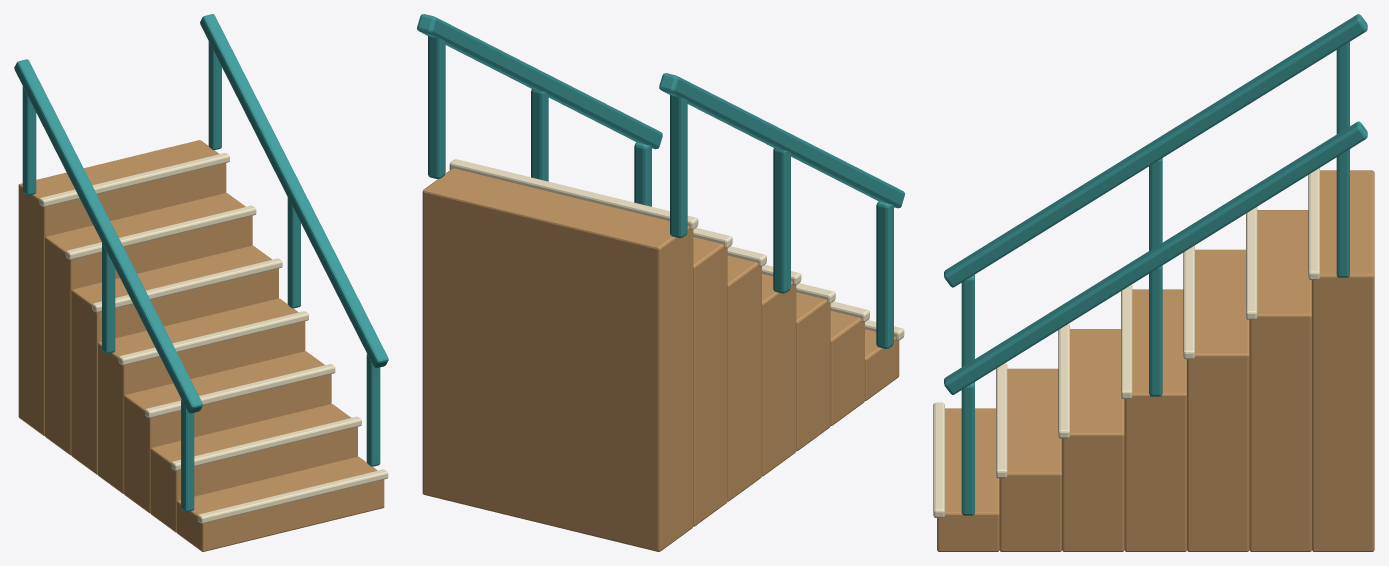
The model's file is S013_straight_stair.glb.
3 views of the same model, side by side, from view 1: azimuth 30°, elevation 25°; view 2: azimuth 150°, elevation 25°; view 3: azimuth 270°, elevation 25° (orthographic). The views are drawn at different scales.
Visible parts, largest first — view 1: stair_tread.006, stair_tread.005, stair_tread.004, stair_tread.003, stair_tread.002, stair_tread.001, stair_tread, sloping_handrail, sloping_handrail.001, tread_nosing, tread_nosing.001, tread_nosing.003 (+10 smaller); view 2: stair_tread.006, stair_tread.005, stair_tread.004, stair_tread.003, sloping_handrail.001, sloping_handrail, stair_tread.002, stair_tread.001, handrail_post, handrail_post.001, handrail_post.002, handrail_post.005 (+4 smaller); view 3: stair_tread.006, stair_tread.005, stair_tread.004, stair_tread.003, stair_tread.002, stair_tread.001, sloping_handrail.001, sloping_handrail, stair_tread, handrail_post.003, handrail_post.004, handrail_post.005 (+10 smaller).
Part boxes in pixels (<box>): stair_tread.006: <box>18,140,226,435</box>; stair_tread.005: <box>45,193,252,455</box>; stair_tread.004: <box>71,245,278,474</box>; stair_tread.003: <box>97,298,305,493</box>; stair_tread.002: <box>124,351,331,513</box>; stair_tread.001: <box>150,404,357,532</box>; stair_tread: <box>176,456,384,551</box>; sloping_handrail: <box>14,59,202,413</box>; sloping_handrail.001: <box>200,14,388,368</box>; tread_nosing: <box>197,469,388,523</box>; tread_nosing.001: <box>171,416,361,470</box>; tread_nosing.003: <box>118,311,308,365</box>; stair_tread.006: <box>422,168,693,551</box>; stair_tread.005: <box>693,237,727,526</box>; stair_tread.004: <box>727,255,761,501</box>; stair_tread.003: <box>762,274,796,476</box>; sloping_handrail.001: <box>417,14,662,149</box>; sloping_handrail: <box>659,73,904,208</box>; stair_tread.002: <box>796,292,830,451</box>; stair_tread.001: <box>830,311,864,425</box>; handrail_post: <box>876,201,893,348</box>; handrail_post.001: <box>773,148,790,293</box>; handrail_post.002: <box>670,95,687,238</box>; handrail_post.005: <box>428,36,445,178</box>; stair_tread.006: <box>1312,170,1374,551</box>; stair_tread.005: <box>1249,210,1311,551</box>; stair_tread.004: <box>1187,249,1249,551</box>; stair_tread.003: <box>1124,289,1186,551</box>; stair_tread.002: <box>1062,329,1124,551</box>; stair_tread.001: <box>999,368,1061,551</box>; sloping_handrail.001: <box>944,121,1367,394</box>; sloping_handrail: <box>944,14,1367,287</box>; stair_tread: <box>937,408,999,551</box>; handrail_post.003: <box>961,382,974,515</box>; handrail_post.004: <box>1149,265,1162,396</box>; handrail_post.005: <box>1336,149,1349,277</box>.
Bounding box in the file's own units: 1.3 × 2.28 × 2.12.
